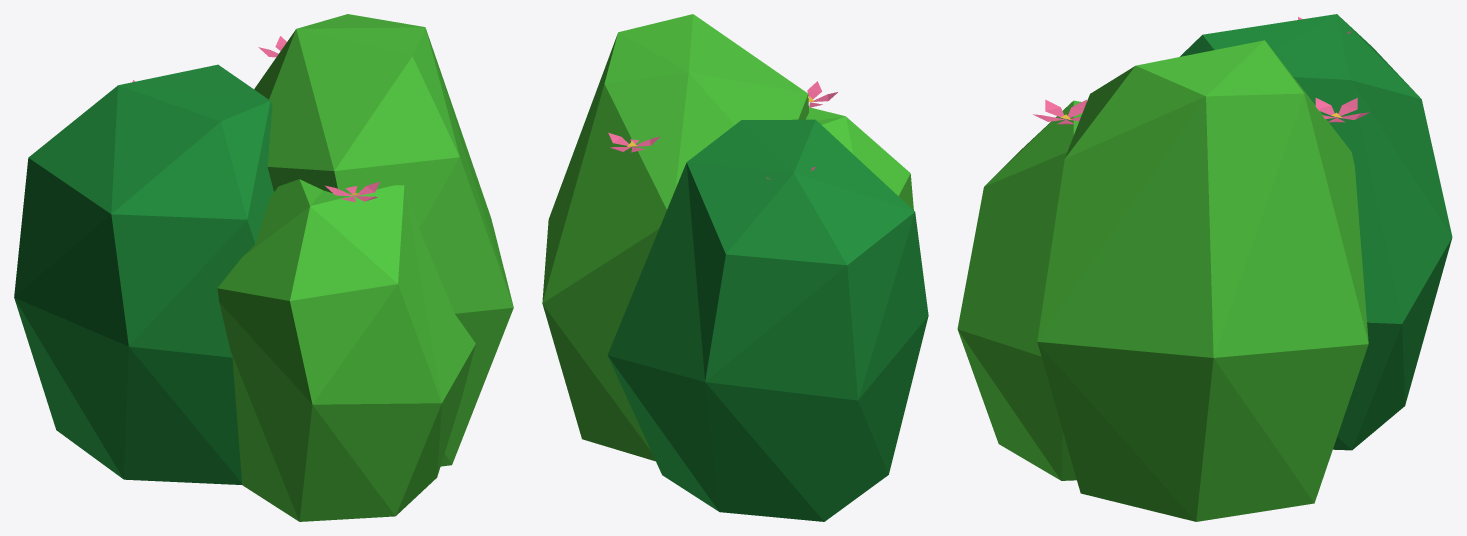
The model's file is shrub_flowering_pink.fbx.
3 views of the same model, side by side, from view 1: azimuth 30°, elevation 25°; view 2: azimuth 150°, elevation 25°; view 3: azimuth 270°, elevation 25° (orthographic). The views are drawn at different scales.
Visible parts, largest first — view 1: shrub_flowering_pink; view 2: shrub_flowering_pink; view 3: shrub_flowering_pink.
Boxes of the visible parts, x1,y1,x2,y2 form: shrub_flowering_pink: [14, 14, 513, 521]; shrub_flowering_pink: [542, 14, 928, 521]; shrub_flowering_pink: [957, 14, 1452, 521].
Bounding box in the file's own units: 1.6 × 1.5 × 1.6.
